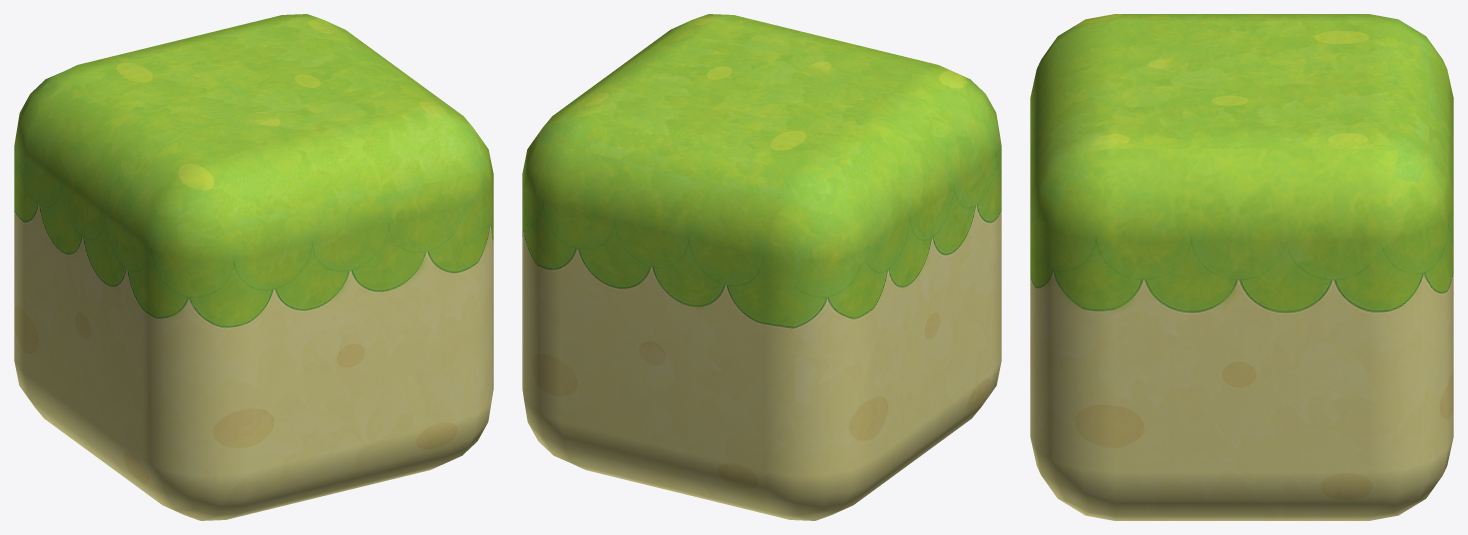
Rendered from LevelElement.fbx.
3 views of the same model, side by side, from view 1: azimuth 30°, elevation 25°; view 2: azimuth 150°, elevation 25°; view 3: azimuth 270°, elevation 25° (orthographic). The views are drawn at different scales.
Visible parts, largest first — view 1: pCube2; view 2: pCube2; view 3: pCube2.
Boxes of the visible parts, x1=… form: pCube2: x1=14, y1=14, x2=493, y2=520; pCube2: x1=522, y1=14, x2=1001, y2=520; pCube2: x1=1030, y1=14, x2=1453, y2=520.
Bounding box in the file's own units: 100 × 100 × 100.
Materials: 1 (1 with a texture image).
